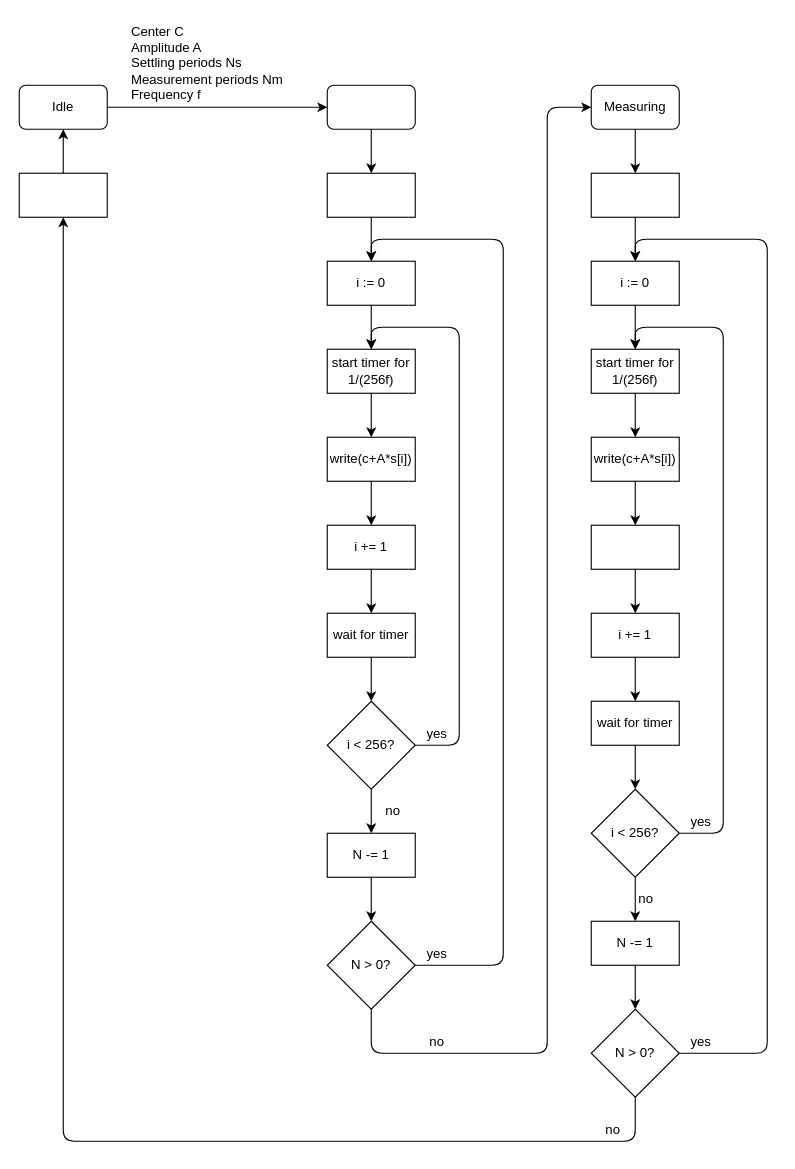
Some shapes in this 795 by 1169 pixel diagram are drawn without their labels. The shapes that lost their labels are listed below. From the top down, each one's centre as x and y in pixels, then its label:
At point 370,106: "Settling".
At point 62,194: "Send results".
At point 370,194: "N := Ns".
At point 634,194: "N := Nm".
At point 634,546: "read & save angle".
